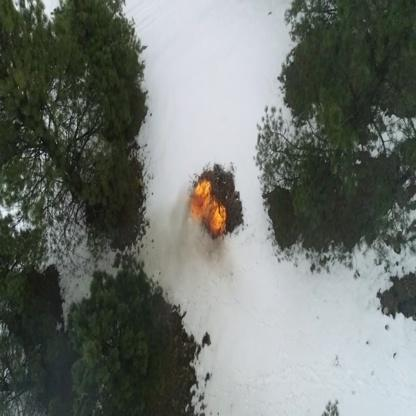Fire: (193, 180, 214, 218), (208, 200, 226, 237)
